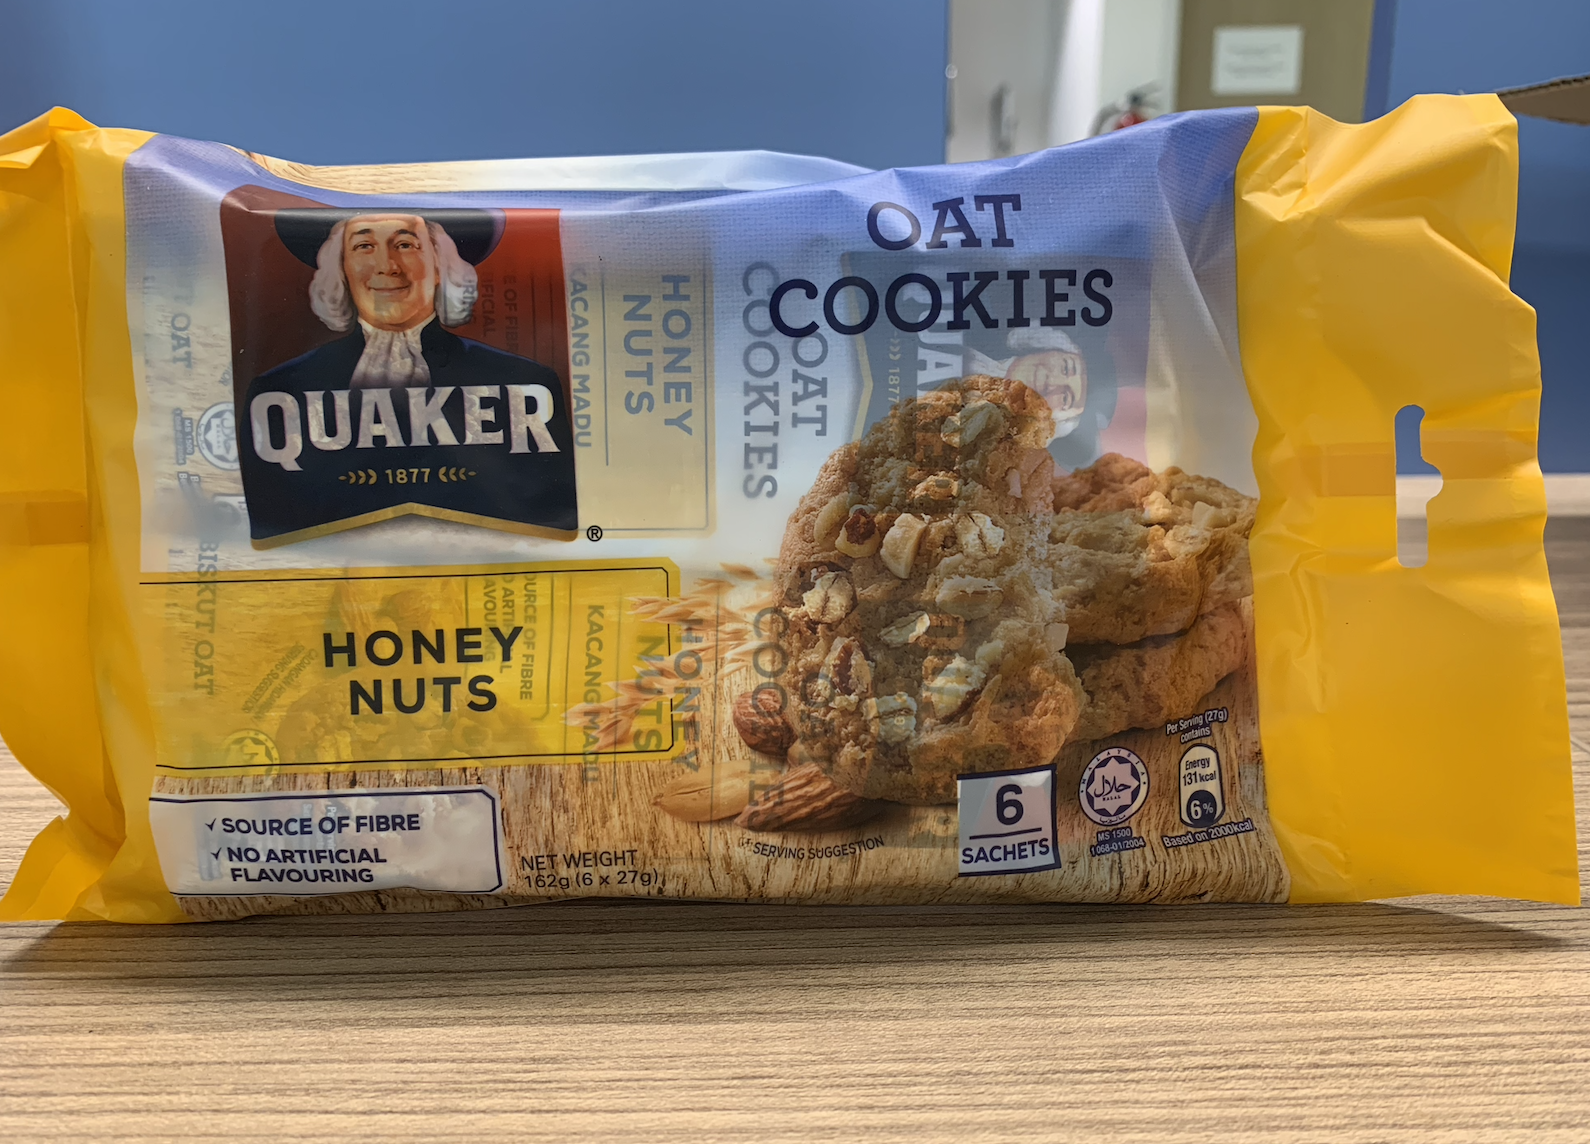cookies_150g: (135, 186, 1337, 879)
